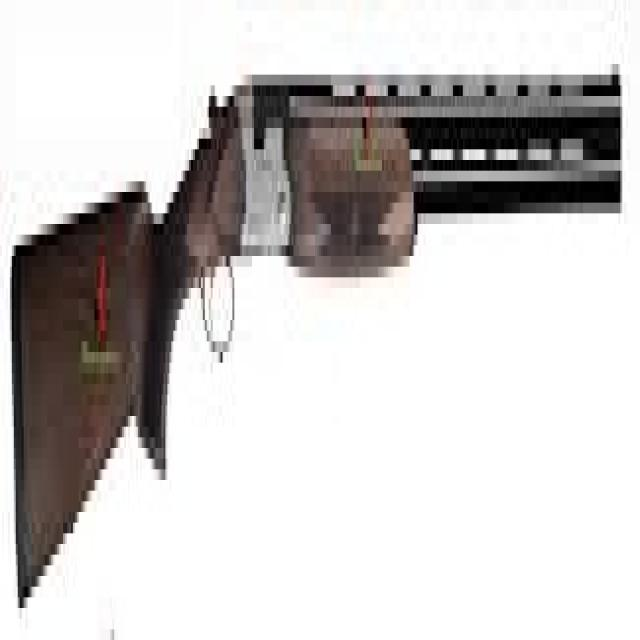rifle: (10, 40, 628, 631)
